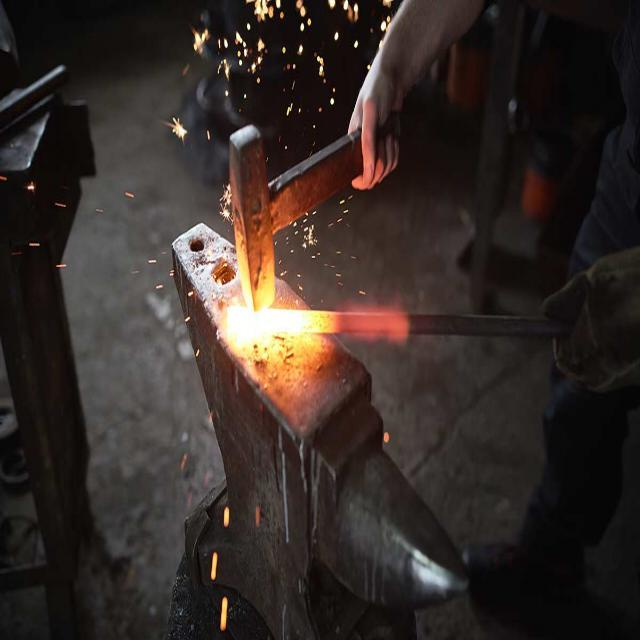hammer: (220, 103, 408, 316)
